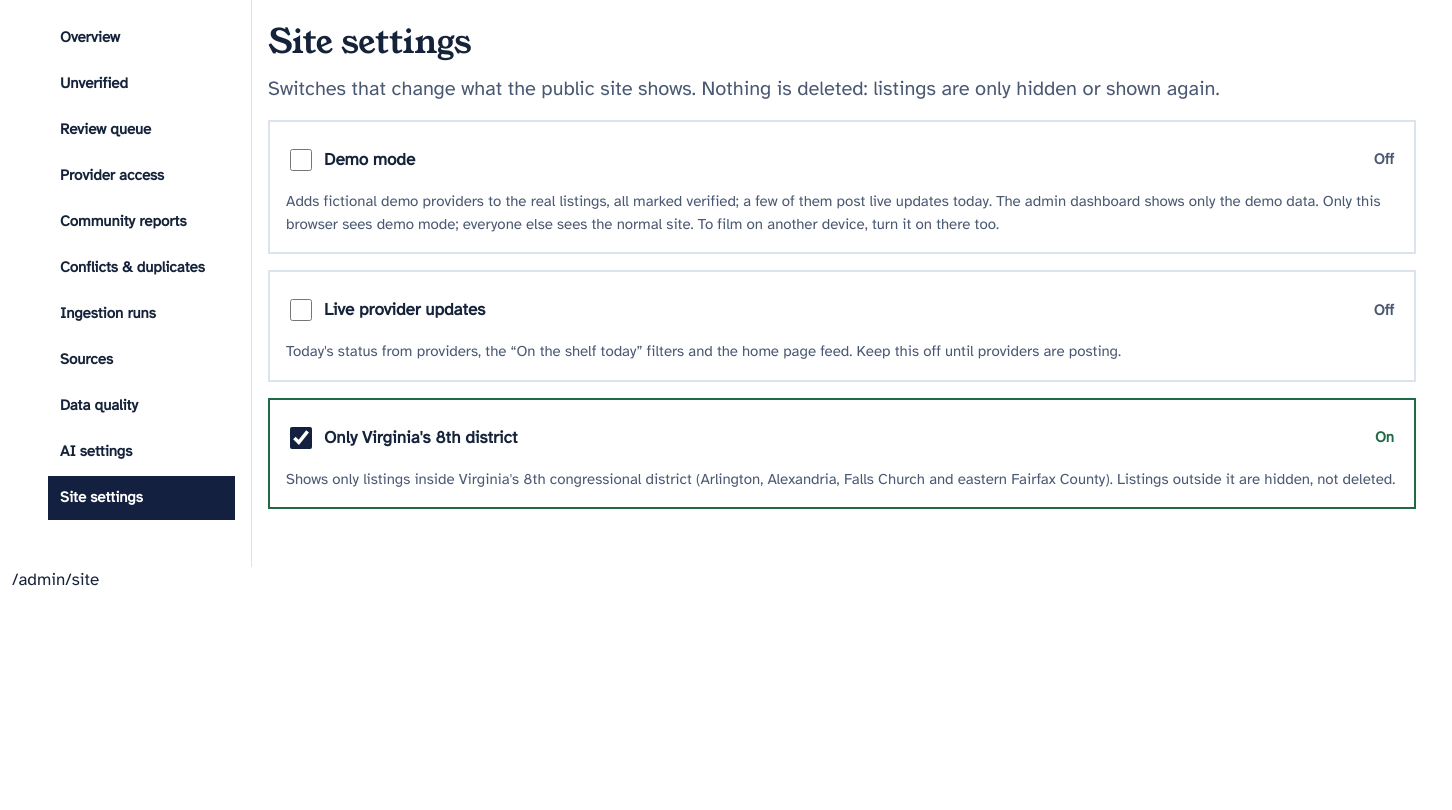
Test case: admin site settings › turns demo mode on and refreshes the public switches
Expected: the switch labelled "Only Virginia's 8th district" is checked, [290,427,312,449]
What coordinates should you click on to do the following:
click the switch labelled "Demo mode"
I would click on:
 (301, 160)
Its box is [290,149,312,171].
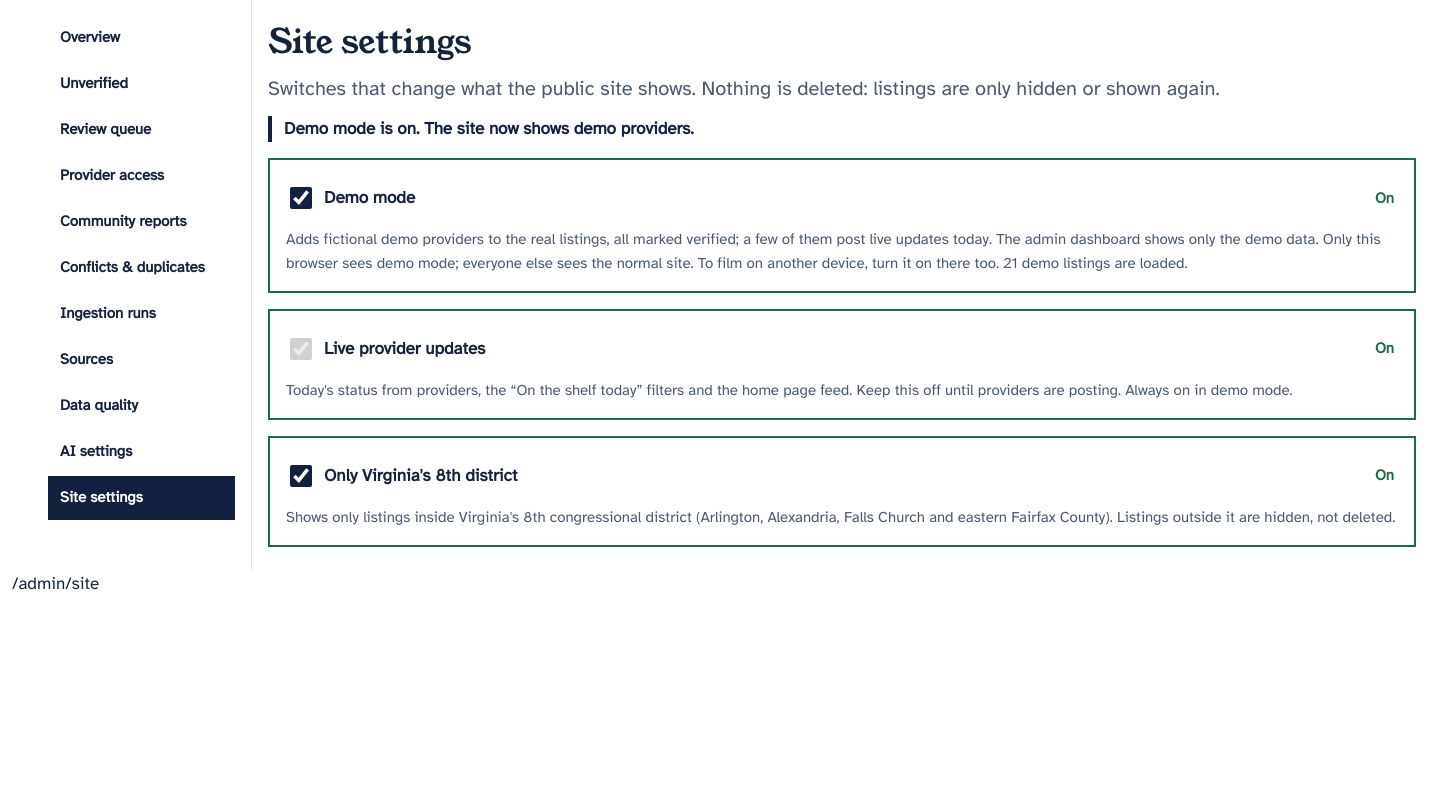
Result: the text "Demo mode is on. The site now shows demo providers." is shown at [268,116,1416,142]
Result: the switch labelled "Live provider updates" is checked at [290,338,312,360]
Result: the switch labelled "Live provider updates" is disabled at [290,338,312,360]
